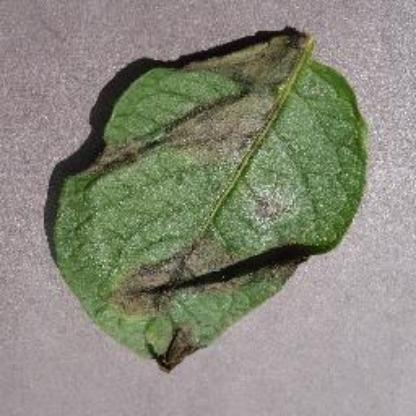Late-Blight: (37, 18, 384, 382)
